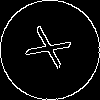X: (25, 25, 81, 75)
